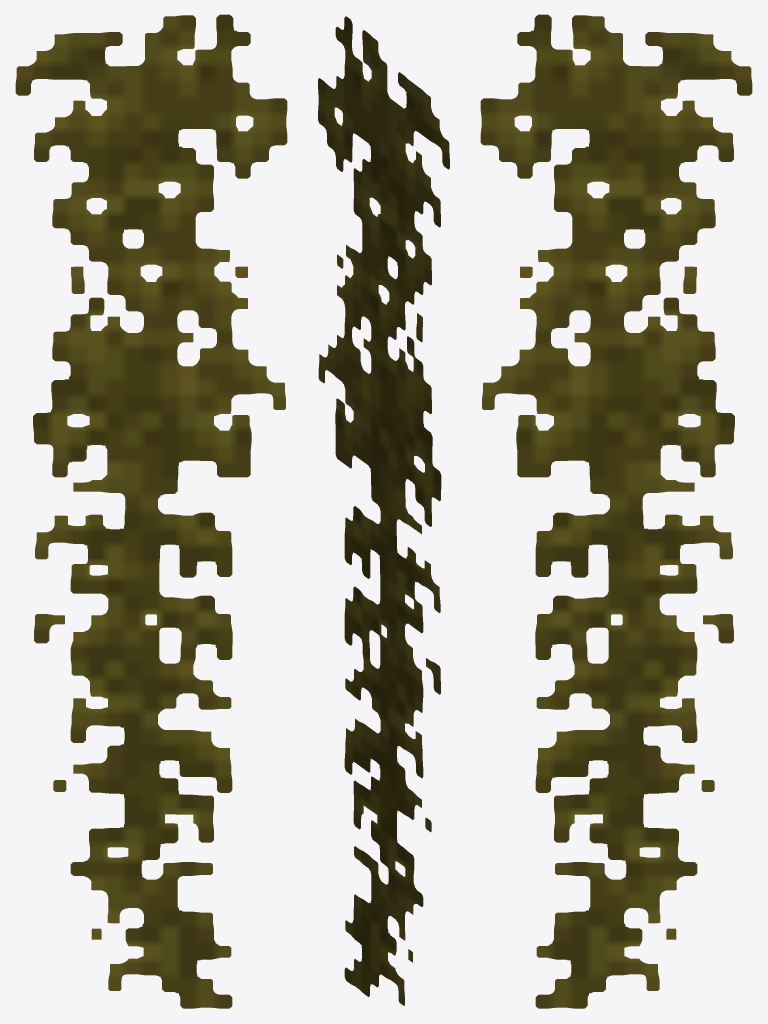
The model's file is ObjMD_Grass_D_ivyB.FBX.
3 renders of one model, left to right at view 1: azimuth 90°, elevation 25°; view 2: azimuth 210°, elevation 25°; view 3: azimuth 270°, elevation 25°, orthographic. The views are drawn at different scales.
Parts seen in each view (by area): view 1: ObjMD_Grass_D_ivyB; view 2: ObjMD_Grass_D_ivyB; view 3: ObjMD_Grass_D_ivyB.
Part boxes in pixels (left/top/right/bottom): ObjMD_Grass_D_ivyB: left=15, top=14, right=287, bottom=1008; ObjMD_Grass_D_ivyB: left=318, top=16, right=449, bottom=1005; ObjMD_Grass_D_ivyB: left=480, top=14, right=752, bottom=1008.
Size of the model in its own units: 0 by 375 by 93.75.
